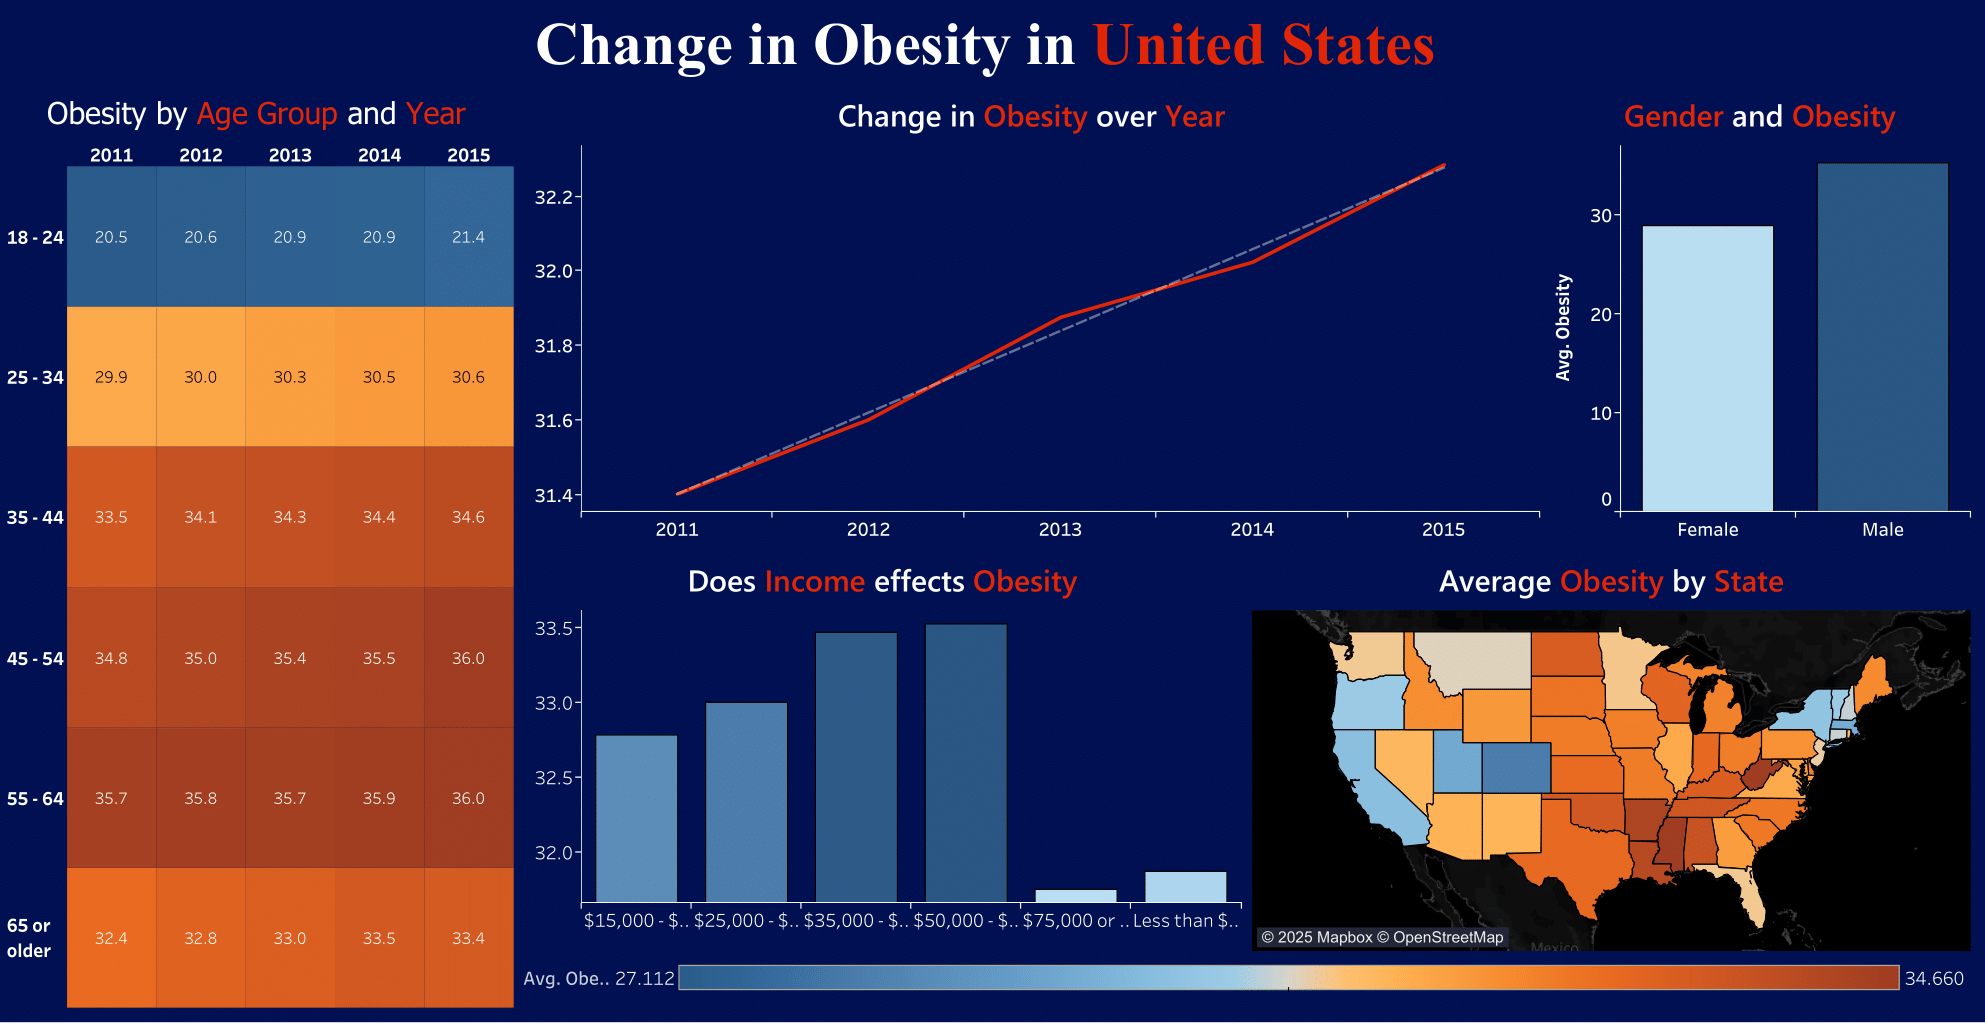

The page's visual inventory and layout, read from the dashboard file:
{"tool":"tableau","page":{"name":"Change in Obesity in United States","canvas":[1000,1000],"units":"permille","ordinal":0},"visuals":[{"type":"title","box":[6.9,13.5,986.1,89.5]},{"type":"worksheet","title":"Obesity by Age Group and Year","mark":"Square","rows":["age_years"],"cols":["yearstart"],"box":[6.9,103,261.1,883.5]},{"type":"worksheet","title":"Change in Obesity over Year","mark":"Line","rows":["Calculation_326510999991275520"],"cols":["yearstart"],"box":[268,103,510.8,441.3]},{"type":"worksheet","title":"Gender and Obesity","mark":"Automatic","rows":["Calculation_326510999991275520"],"cols":["gender"],"box":[778.8,103,214.3,441.3]},{"type":"worksheet","title":"Does Income effects Obesity","mark":"Automatic","rows":["Calculation_326510999991275520"],"cols":["income"],"box":[268,544.3,362.5,388.2]},{"type":"worksheet","title":"Average Obesity by State","mark":"Automatic","box":[630.5,544.3,362.6,388.2]},{"type":"legend","title":"Average Obesity by State","param":"[federated.0uhxpah08y9isv1asia9w0q04auu].[avg:Calculation_326510999991275520:qk]","box":[268,932.5,725.1,54]}]}

Visuals, with their boxes on the dashboard's canvas, which has no fixed pixel size, in thousandths of its width and height (x1, y1, x2, y2). These are canvas units, not pixel positions in the 1985x1027 screenshot, which may show the page scaled, cropped or inside an application window:
title: x1=7, y1=14, x2=993, y2=103
"Obesity by Age Group and Year" worksheet (Square marks): x1=7, y1=103, x2=268, y2=986
"Change in Obesity over Year" worksheet (Line marks): x1=268, y1=103, x2=779, y2=544
"Gender and Obesity" worksheet: x1=779, y1=103, x2=993, y2=544
"Does Income effects Obesity" worksheet: x1=268, y1=544, x2=630, y2=932
"Average Obesity by State" worksheet: x1=630, y1=544, x2=993, y2=932
"Average Obesity by State" legend: x1=268, y1=932, x2=993, y2=986
